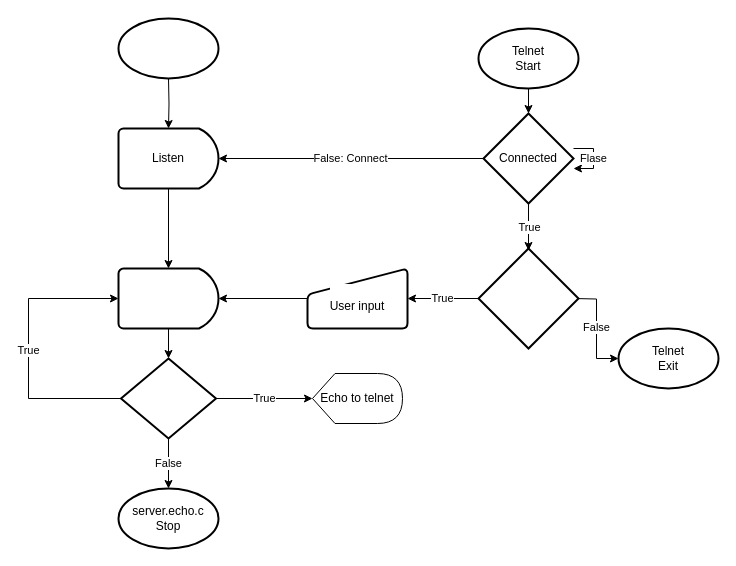
Some shapes in this 736 by 566 pixel diagram are drawn without their labels. The shapes that lost their labels are listed below. From the top down, each one's centre as x and y in pixels, then its label:
At [168,48]: "server.echo.c Start".
At [168,298]: "RECV input".
At [528,298]: "While server is listening".
At [168,398]: "If input ≠ `esc`".
